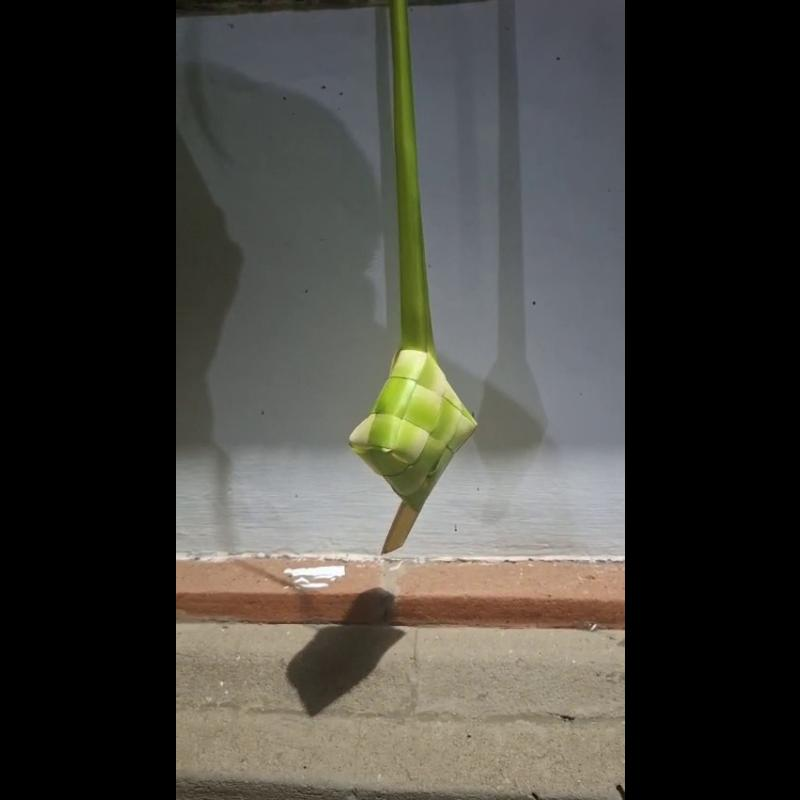Tipat Nasi: (347, 344, 485, 551)
